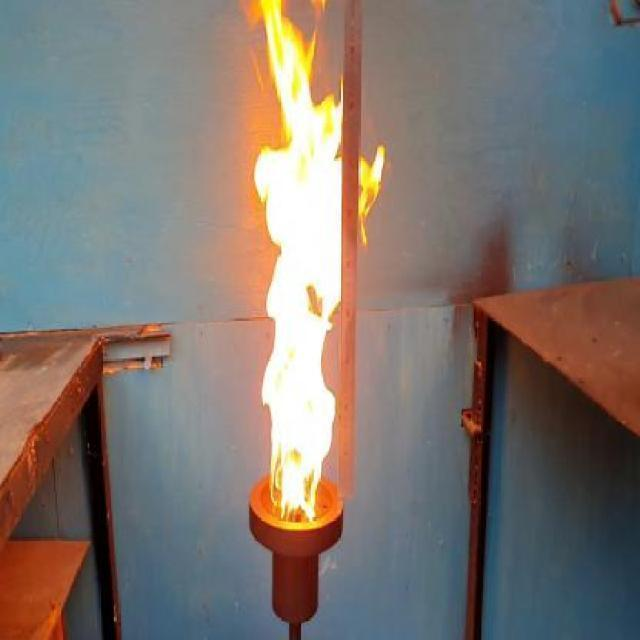Fire: (243, 0, 390, 517)
